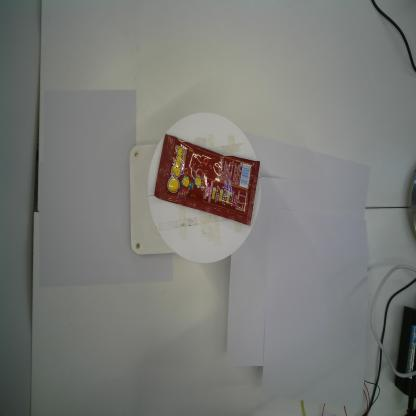Candy: (154, 132, 259, 230)
